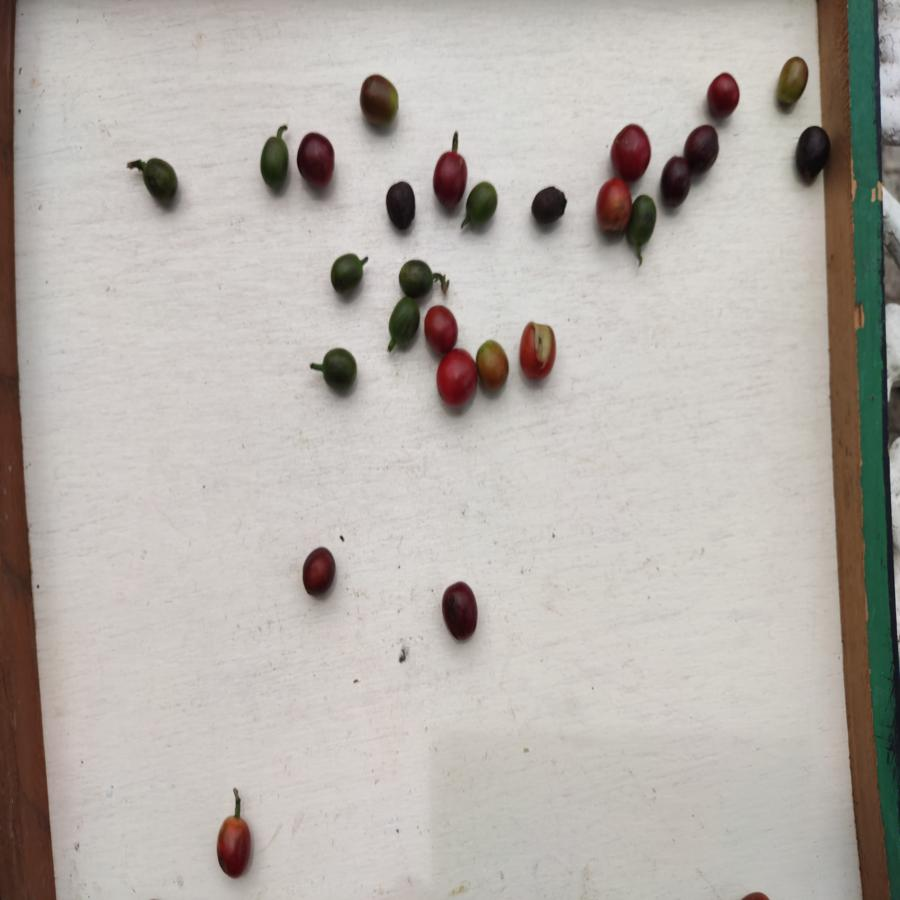Inmaduro: (138, 154, 179, 203), (257, 135, 290, 191), (319, 348, 357, 391), (395, 258, 434, 299), (389, 296, 419, 348), (630, 194, 657, 248), (466, 178, 497, 224), (331, 252, 364, 295)
Maduro: (436, 349, 477, 406), (215, 816, 252, 878), (610, 124, 651, 176), (594, 178, 629, 237), (518, 326, 554, 381), (424, 305, 459, 352), (705, 72, 740, 118)
Pinton: (358, 73, 401, 130), (776, 55, 810, 110), (475, 341, 511, 392)
Sobremaduro: (440, 578, 485, 642), (293, 133, 337, 189), (795, 124, 831, 188), (300, 543, 338, 599), (433, 149, 465, 210), (659, 156, 693, 211), (685, 124, 720, 175), (384, 180, 417, 233), (530, 186, 570, 224)
